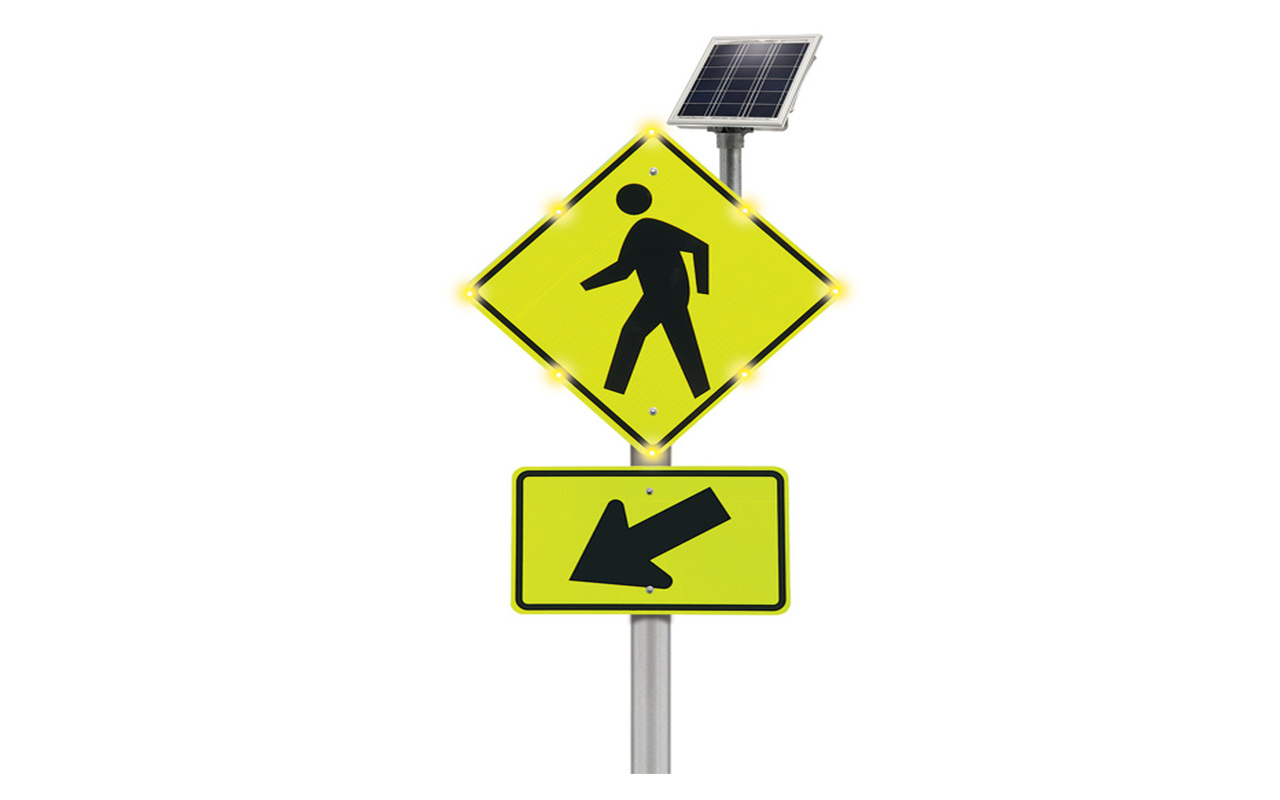CrossSign: (460, 115, 860, 458)
